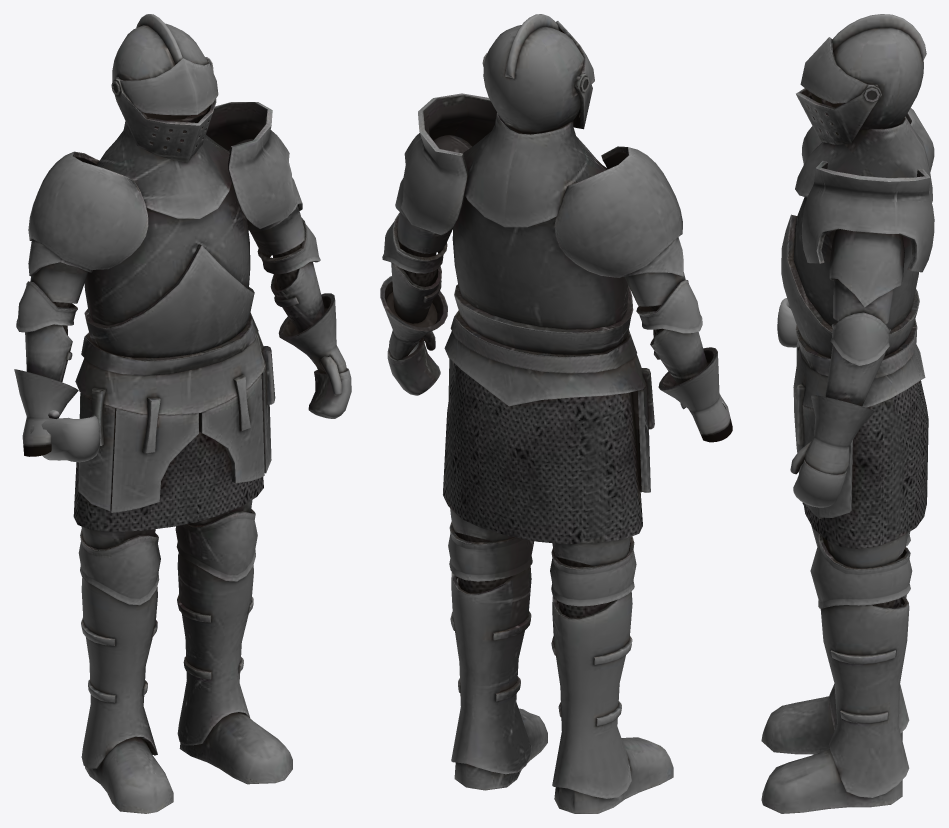
The model's file is armour-field-1.glb.
The picture shows the model from 3 angles, left to right: view 1: azimuth 30°, elevation 25°; view 2: azimuth 150°, elevation 25°; view 3: azimuth 270°, elevation 25°; orthographic projection. The views are drawn at different scales.
Parts seen in each view (by area): view 1: armour-field-1; view 2: armour-field-1; view 3: armour-field-1.
Part boxes in pixels (x1=…): armour-field-1: x1=14, y1=14, x2=351, y2=813; armour-field-1: x1=380, y1=14, x2=732, y2=813; armour-field-1: x1=761, y1=14, x2=934, y2=813.
Bounding box in the file's own units: 0.7773 × 1.7 × 0.3527.
1 material, 1 textured.
